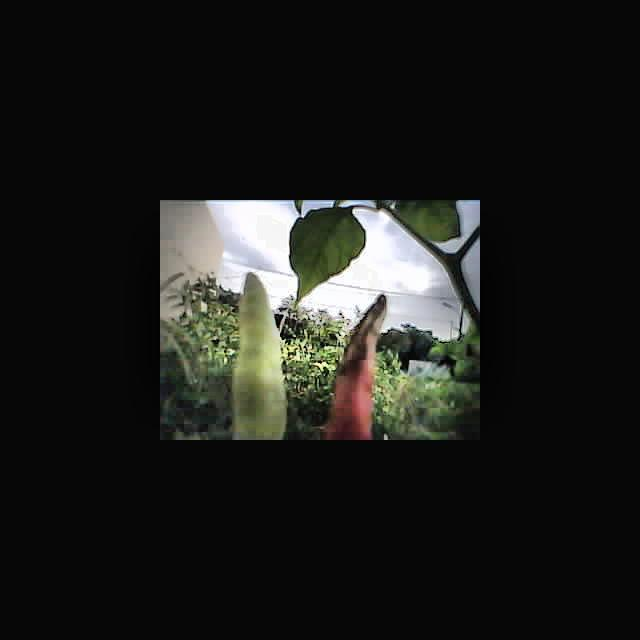Cabai: (328, 290, 384, 440)
